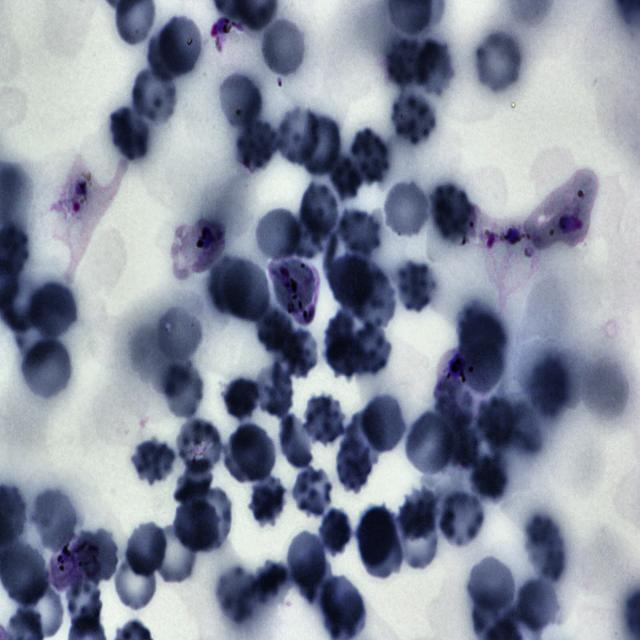red blood cell: (20, 337, 73, 403), (404, 411, 455, 478), (472, 29, 523, 95), (258, 14, 308, 79), (436, 486, 486, 550), (31, 486, 79, 552), (466, 554, 516, 616), (28, 278, 78, 340), (274, 103, 322, 167), (382, 178, 431, 240), (130, 64, 179, 126), (299, 111, 344, 178), (154, 304, 202, 366), (222, 260, 270, 322), (175, 419, 225, 478), (160, 360, 207, 422), (150, 522, 197, 584), (112, 550, 158, 613), (361, 391, 406, 455), (12, 301, 58, 363), (106, 103, 154, 162), (157, 15, 203, 76), (325, 254, 375, 310), (389, 90, 438, 146), (431, 181, 474, 244), (254, 207, 302, 263), (348, 270, 394, 328), (325, 308, 363, 378), (348, 321, 394, 378), (19, 581, 65, 638), (218, 73, 264, 129), (124, 521, 169, 578), (231, 422, 276, 479), (526, 517, 566, 581), (335, 432, 375, 494), (174, 499, 218, 555), (235, 118, 279, 174), (341, 410, 385, 466), (337, 207, 383, 260), (209, 258, 251, 316), (393, 260, 436, 316), (516, 574, 559, 630), (396, 485, 439, 541), (192, 488, 232, 548), (459, 310, 507, 360), (226, 429, 268, 486), (349, 127, 390, 185), (462, 340, 506, 394), (303, 394, 346, 448), (283, 212, 332, 259), (356, 506, 394, 566), (321, 576, 364, 629), (218, 567, 258, 623), (292, 550, 334, 603), (288, 530, 326, 588), (248, 473, 288, 528), (254, 363, 295, 416), (131, 437, 176, 485), (364, 522, 401, 580), (530, 360, 568, 416), (478, 396, 517, 450), (291, 468, 333, 517), (402, 514, 440, 568), (146, 30, 185, 82), (82, 528, 119, 582), (279, 411, 314, 468), (418, 38, 453, 95), (300, 184, 338, 235), (387, 40, 424, 90), (174, 458, 212, 506), (253, 560, 294, 604), (257, 310, 295, 357), (315, 510, 352, 557), (280, 329, 316, 376), (329, 154, 363, 201), (223, 377, 260, 420), (470, 456, 507, 498)
trophozoite: (52, 153, 125, 280), (465, 205, 539, 292), (523, 168, 599, 249), (432, 348, 488, 426), (268, 254, 323, 325), (210, 18, 264, 83), (171, 215, 225, 278), (45, 533, 102, 592)
